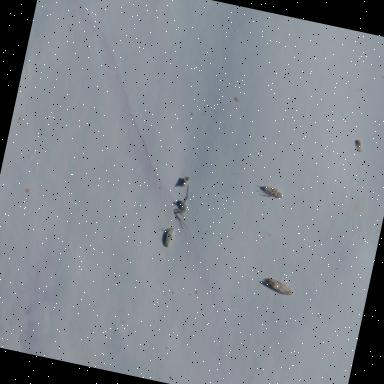pbw: (261, 274, 296, 298)
